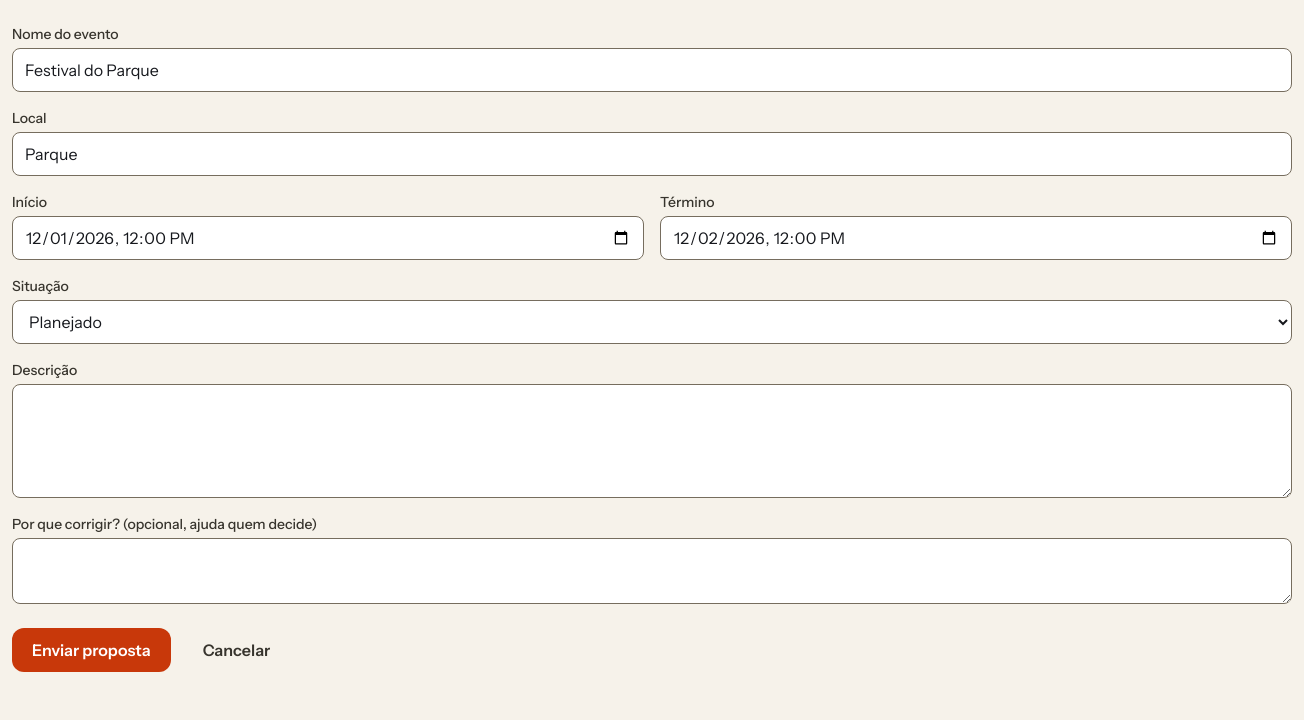
Test: ProposeChangeForm › término antes do início: recusa ali mesmo, no campo do término, sem ir ao servidor
Replace the text in the field labelled "Término" with "2026-11-20T10:00" at (976, 238), box [660,216,1292,260]
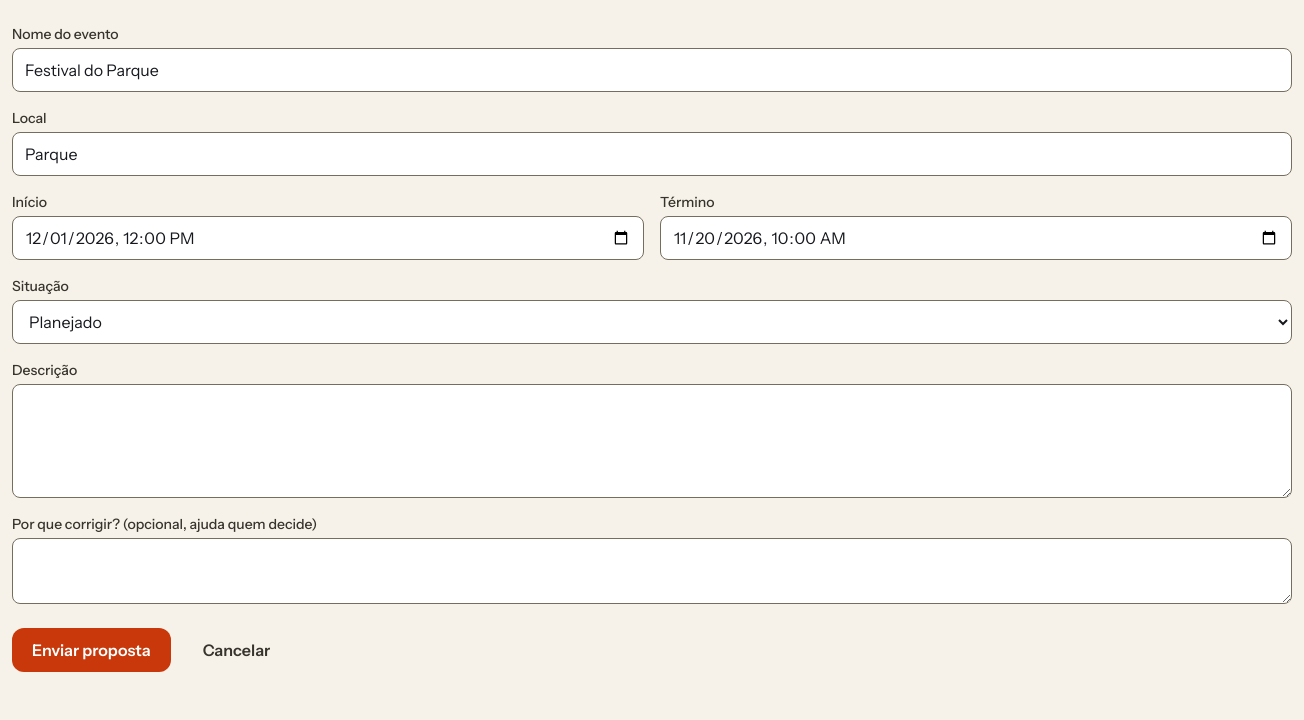
Click the button "Enviar proposta".
click(91, 650)  # box [12,628,171,672]
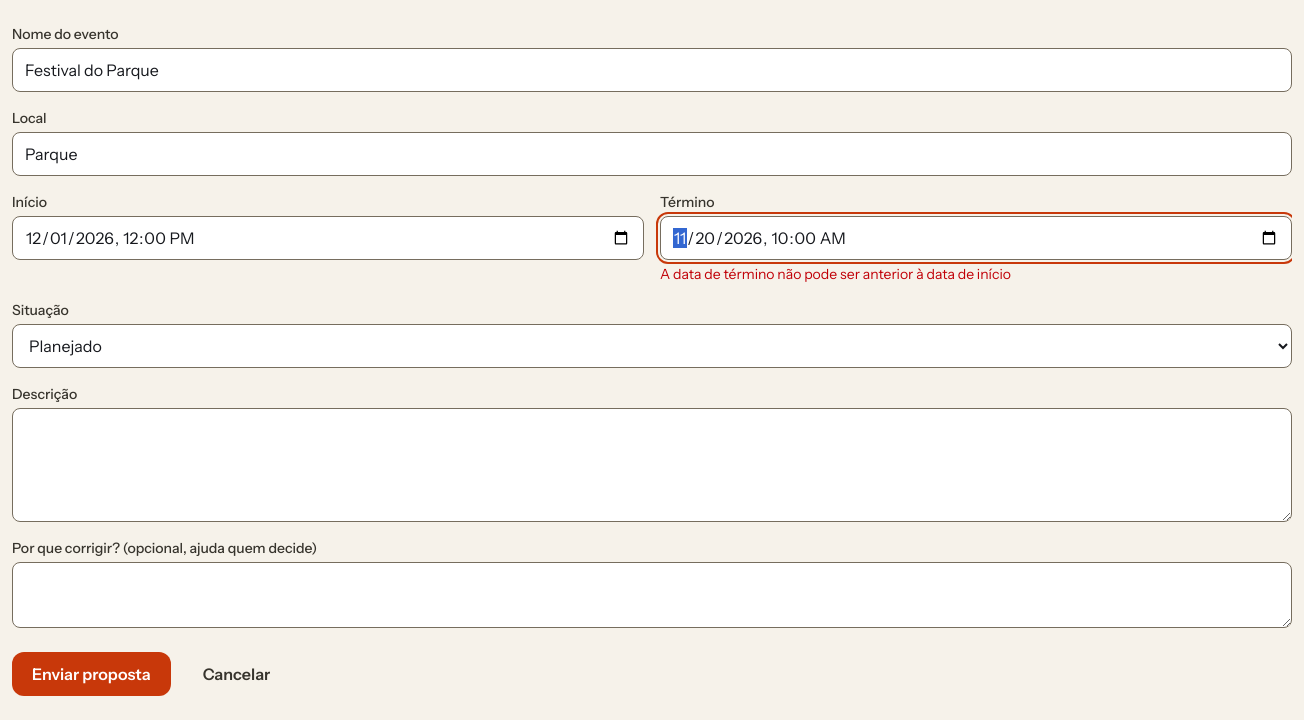
Check: the text "A data de término não pode ser anterior à data de início" is shown, box [660,265,1011,283]
